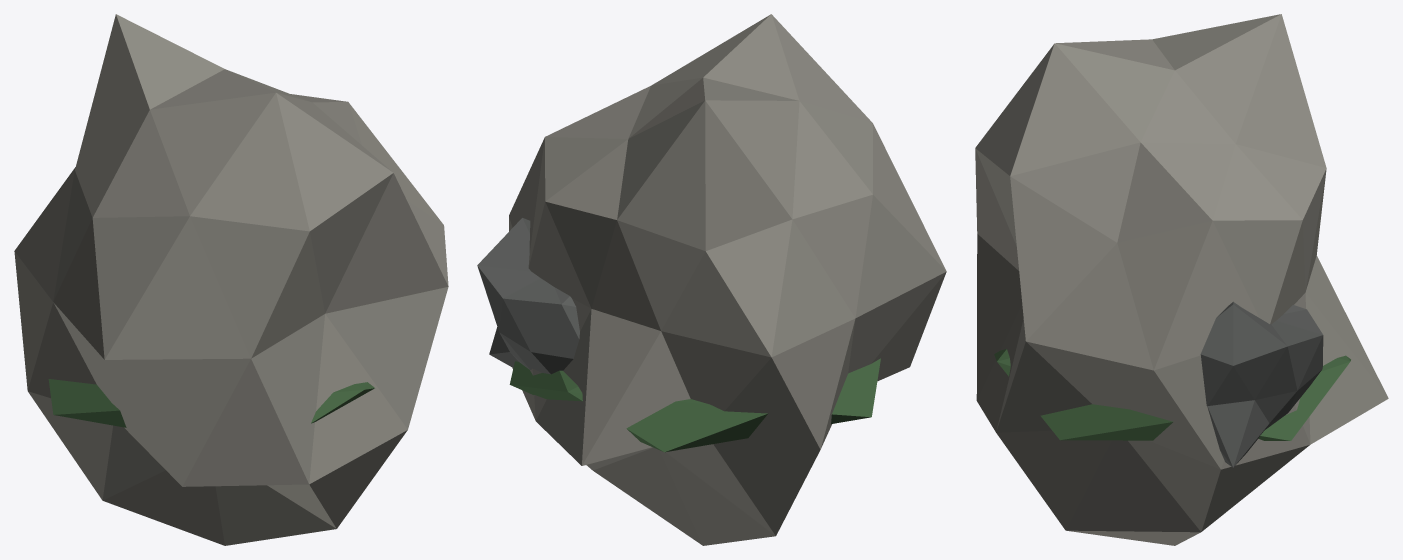
File: rock_2.glb
The picture shows the model from 3 angles, left to right: view 1: azimuth 30°, elevation 25°; view 2: azimuth 150°, elevation 25°; view 3: azimuth 270°, elevation 25°; orthographic projection.
Visible parts, largest first — view 1: rock_2; view 2: rock_2; view 3: rock_2.
Boxes of the visible parts, x1,y1,x2,y2 form: rock_2: [14, 14, 448, 545]; rock_2: [477, 14, 946, 545]; rock_2: [975, 14, 1388, 545].
Size of what is drawn, in the model's own units: 1.86 by 2.3 by 1.7.
